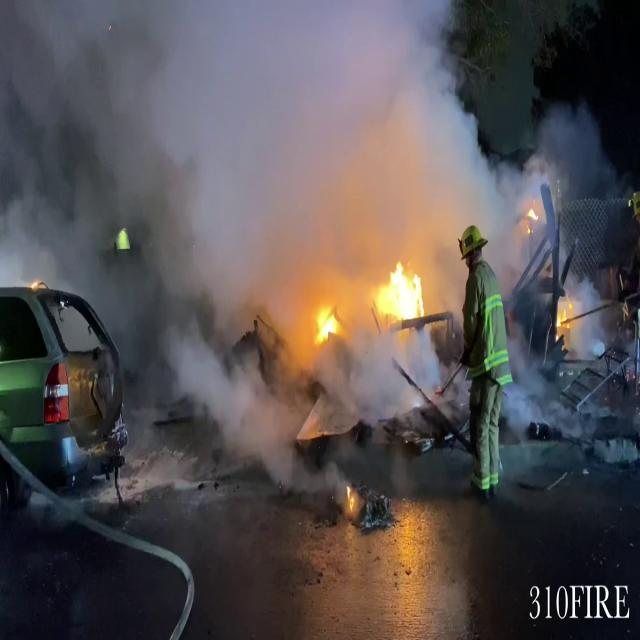Fire: (374, 258, 432, 329), (312, 302, 342, 345)
Smoke: (4, 1, 550, 282)
